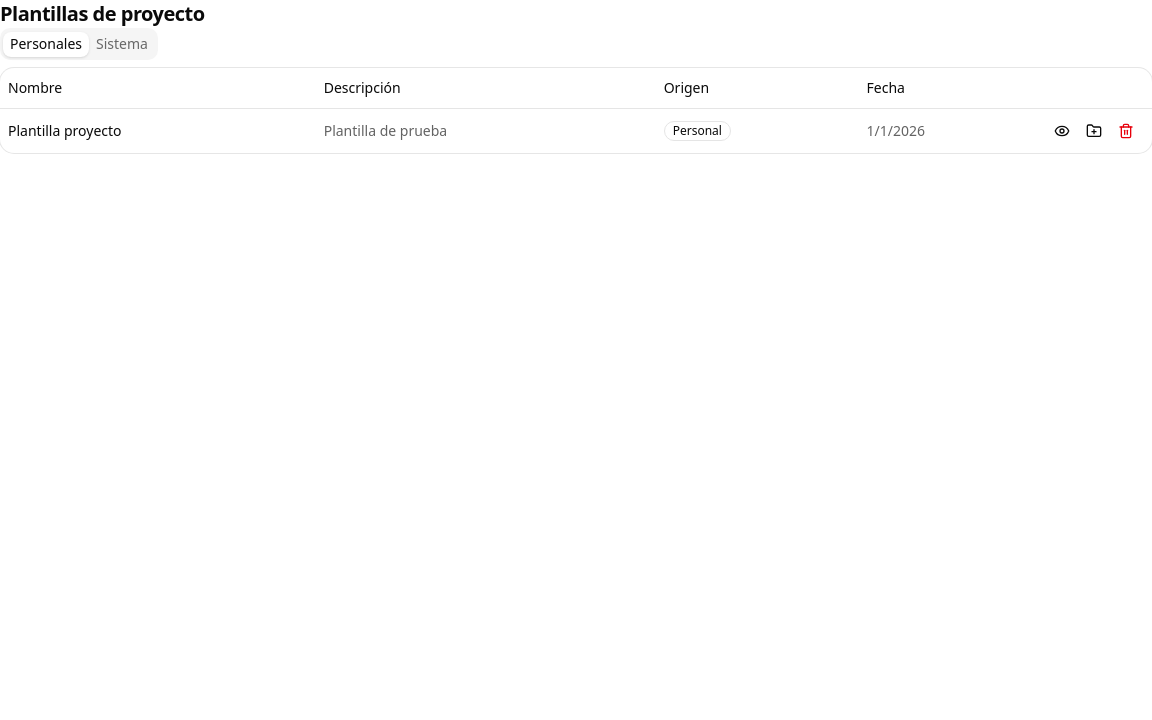
Test: PlantillasProyectoPage › abre el diálogo al pulsar sobre una plantilla con id UUID
Expected: the text "Plantilla proyecto" is shown, left=0, top=108, right=316, bottom=152
Click the button titled "Crear proyecto desde esta plantilla" at point(1094, 130), box left=1080, top=116, right=1108, bottom=144
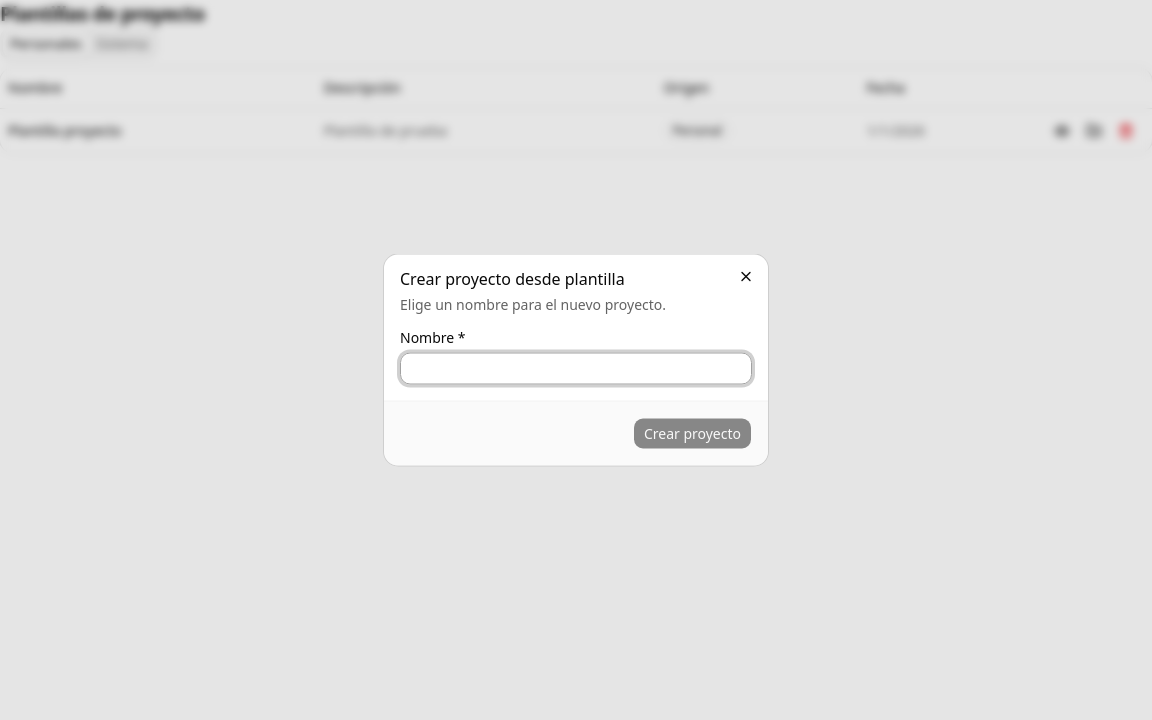
Result: the heading "Crear proyecto desde plantilla" is shown at left=400, top=268, right=625, bottom=290
